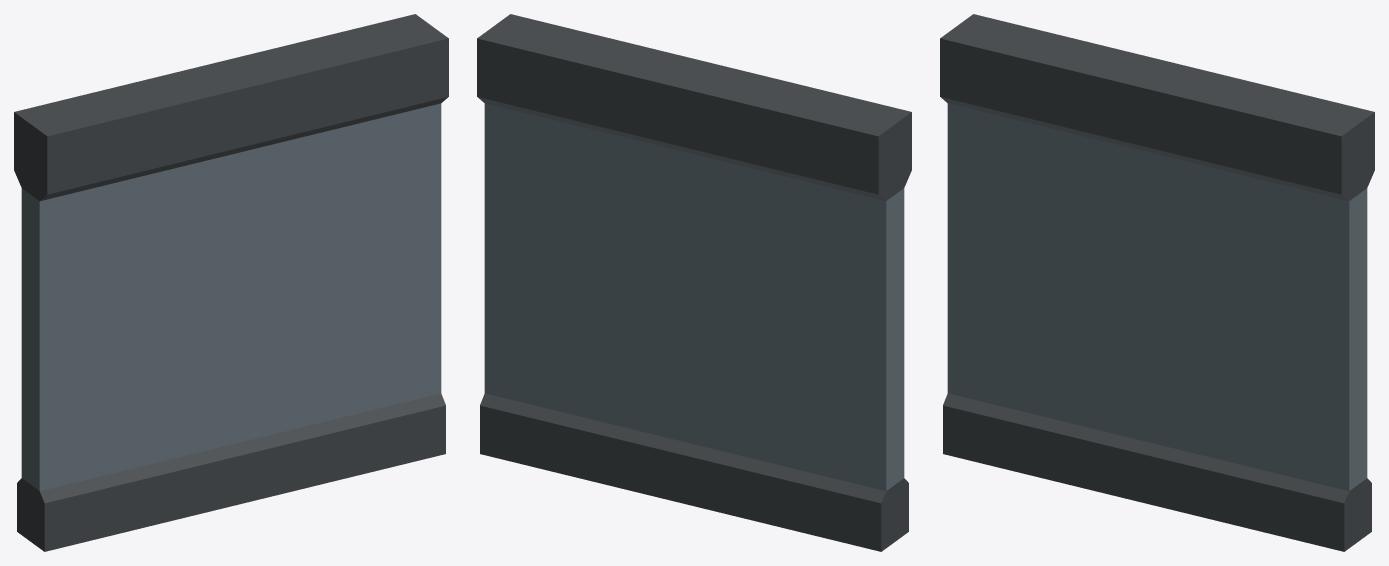
File: wall_1_5.glb
3 renders of one model, left to right at view 1: azimuth 30°, elevation 25°; view 2: azimuth 150°, elevation 25°; view 3: azimuth 330°, elevation 25°, orthographic.
Visible parts, largest first — view 1: wall_1_5; view 2: wall_1_5; view 3: wall_1_5.
Boxes of the visible parts, x1=… form: wall_1_5: x1=14, y1=14, x2=448, y2=551; wall_1_5: x1=477, y1=14, x2=911, y2=551; wall_1_5: x1=940, y1=14, x2=1374, y2=551.
Size of the model in its own units: 1.54 by 1.53 by 0.2217.
Materials: 1 (1 with a texture image).
